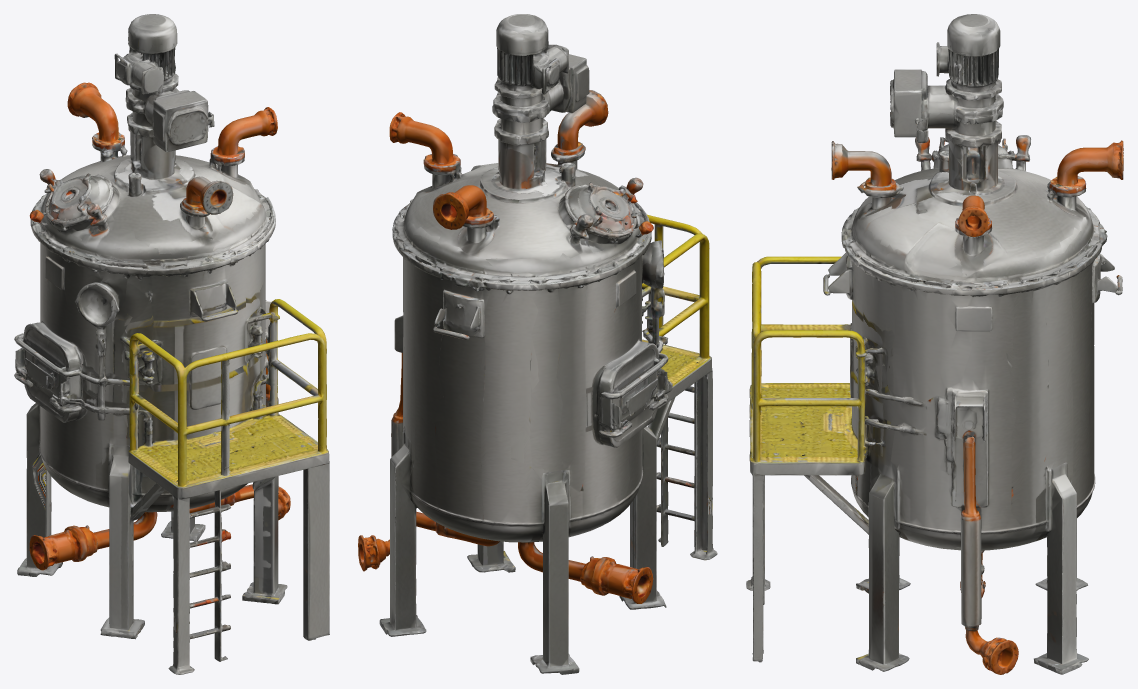
Rendered from Props_ReactorTank.fbx.
The picture shows the model from 3 angles, left to right: view 1: azimuth 30°, elevation 25°; view 2: azimuth 150°, elevation 25°; view 3: azimuth 270°, elevation 25°; orthographic projection. The views are drawn at different scales.
Parts seen in each view (by area): view 1: Props_ReactorTank; view 2: Props_ReactorTank; view 3: Props_ReactorTank.
Boxes of the visible parts, x1=… form: Props_ReactorTank: x1=14, y1=14, x2=329, y2=674; Props_ReactorTank: x1=358, y1=14, x2=717, y2=674; Props_ReactorTank: x1=746, y1=14, x2=1123, y2=674.
Bounding box in the file's own units: 49.95 × 100 × 56.52.
